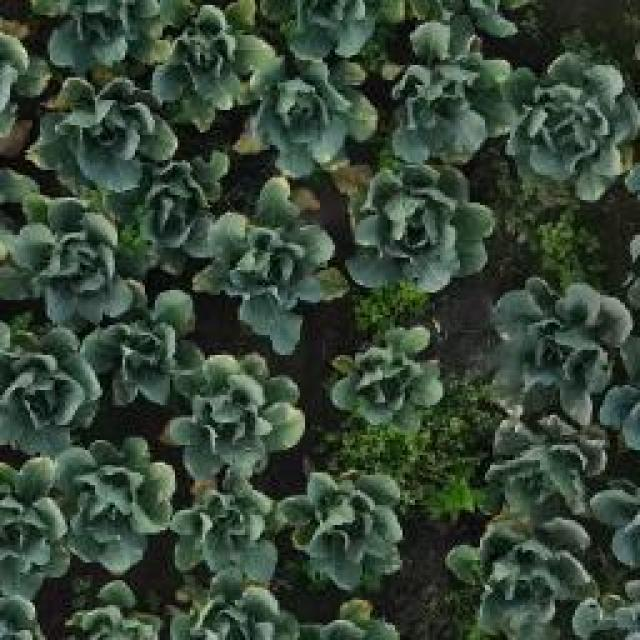cabbage: (198, 182, 344, 334), (446, 501, 595, 640), (487, 270, 629, 409), (31, 78, 182, 202), (238, 47, 381, 175), (511, 57, 638, 197), (0, 190, 134, 322), (346, 167, 487, 290), (46, 439, 175, 573), (174, 355, 308, 481), (143, 0, 273, 127), (486, 399, 612, 526), (393, 23, 510, 159), (286, 466, 408, 596), (0, 319, 100, 457), (171, 469, 286, 588), (87, 288, 201, 407), (334, 319, 444, 437), (128, 149, 231, 262), (0, 457, 72, 598)
